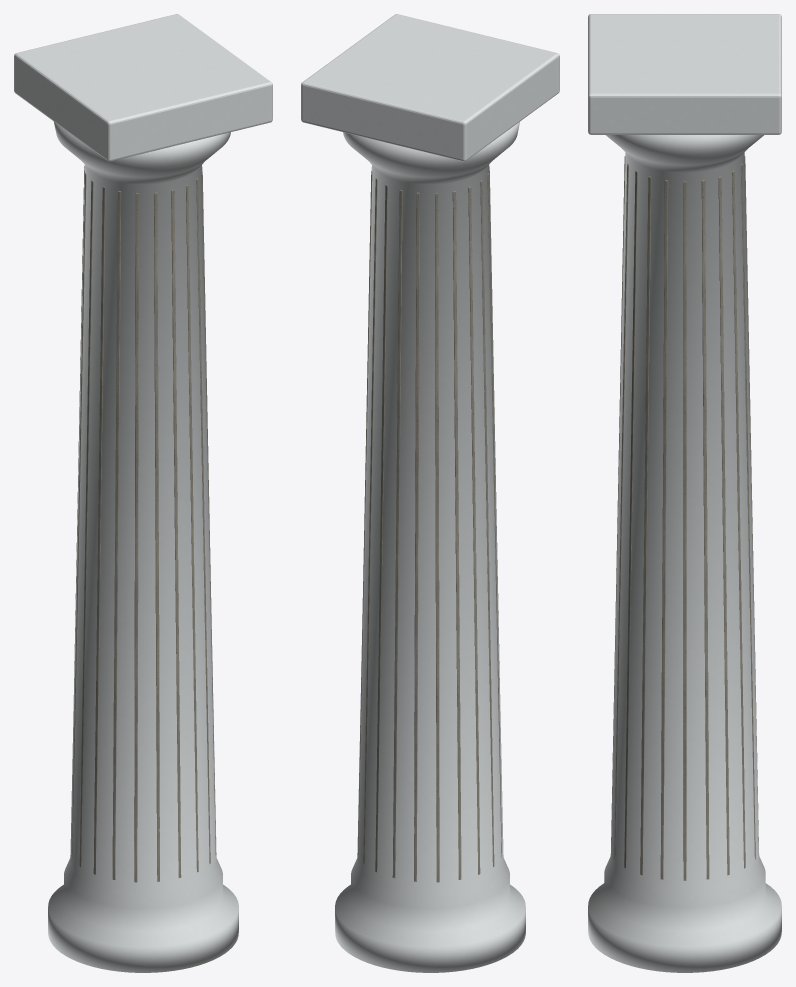
Rendered from doric-column-original.glb.
3 renders of one model, left to right at view 1: azimuth 30°, elevation 25°; view 2: azimuth 150°, elevation 25°; view 3: azimuth 270°, elevation 25°, orthographic.
Visible parts, largest first — view 1: Original classical column, Column abacus, Shallow column fluting accent.013, Shallow column fluting accent.014, Shallow column fluting accent.012, Shallow column fluting accent.015, Shallow column fluting accent.011, Shallow column fluting accent.016, Shallow column fluting accent.010, Shallow column fluting accent.017, Shallow column fluting accent.009, Shallow column fluting accent.018; view 2: Original classical column, Column abacus, Shallow column fluting accent.007, Shallow column fluting accent.006, Shallow column fluting accent.008, Shallow column fluting accent.005, Shallow column fluting accent.009, Shallow column fluting accent.004, Shallow column fluting accent.010, Shallow column fluting accent.003, Shallow column fluting accent.011, Shallow column fluting accent.002; view 3: Original classical column, Column abacus, Shallow column fluting accent, Shallow column fluting accent.001, Shallow column fluting accent.019, Shallow column fluting accent.002, Shallow column fluting accent.018, Shallow column fluting accent.003, Shallow column fluting accent.017, Shallow column fluting accent.016, Shallow column fluting accent.004, Shallow column fluting accent.005 (+1 smaller).
Boxes of the visible parts, left/top/right/bottom form: Original classical column: left=48, top=122, right=238, bottom=972; Column abacus: left=14, top=14, right=272, bottom=161; Shallow column fluting accent.013: left=134, top=193, right=138, bottom=882; Shallow column fluting accent.014: left=154, top=192, right=159, bottom=881; Shallow column fluting accent.012: left=112, top=191, right=121, bottom=879; Shallow column fluting accent.015: left=171, top=190, right=181, bottom=878; Shallow column fluting accent.011: left=93, top=186, right=105, bottom=874; Shallow column fluting accent.016: left=186, top=185, right=198, bottom=872; Shallow column fluting accent.010: left=79, top=180, right=93, bottom=866; Shallow column fluting accent.017: left=196, top=178, right=210, bottom=863; Shallow column fluting accent.009: left=72, top=173, right=86, bottom=857; Shallow column fluting accent.018: left=201, top=170, right=216, bottom=854; Original classical column: left=335, top=122, right=525, bottom=972; Column abacus: left=301, top=14, right=559, bottom=161; Shallow column fluting accent.007: left=435, top=193, right=439, bottom=882; Shallow column fluting accent.006: left=414, top=192, right=419, bottom=881; Shallow column fluting accent.008: left=452, top=191, right=461, bottom=879; Shallow column fluting accent.005: left=392, top=190, right=402, bottom=878; Shallow column fluting accent.009: left=468, top=186, right=480, bottom=874; Shallow column fluting accent.004: left=375, top=185, right=387, bottom=872; Shallow column fluting accent.010: left=480, top=180, right=494, bottom=866; Shallow column fluting accent.003: left=363, top=178, right=377, bottom=863; Shallow column fluting accent.011: left=487, top=173, right=501, bottom=857; Shallow column fluting accent.002: left=357, top=170, right=372, bottom=854; Original classical column: left=588, top=135, right=781, bottom=972; Column abacus: left=588, top=14, right=781, bottom=134; Shallow column fluting accent: left=683, top=181, right=686, bottom=880; Shallow column fluting accent.001: left=701, top=180, right=709, bottom=879; Shallow column fluting accent.019: left=660, top=180, right=668, bottom=879; Shallow column fluting accent.002: left=718, top=176, right=729, bottom=875; Shallow column fluting accent.018: left=640, top=176, right=651, bottom=875; Shallow column fluting accent.003: left=732, top=171, right=745, bottom=868; Shallow column fluting accent.017: left=624, top=171, right=637, bottom=868; Shallow column fluting accent.016: left=614, top=163, right=628, bottom=859; Shallow column fluting accent.004: left=741, top=163, right=755, bottom=859; Shallow column fluting accent.005: left=744, top=156, right=758, bottom=841.
Size of the model in its own units: 0.6 by 3 by 0.6.
Materials: 2 (2 with a texture image).
